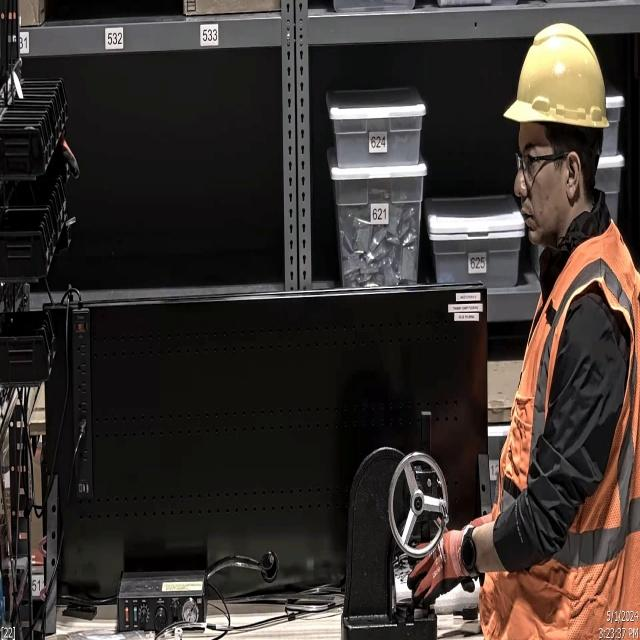gloves: (405, 526, 466, 615)
